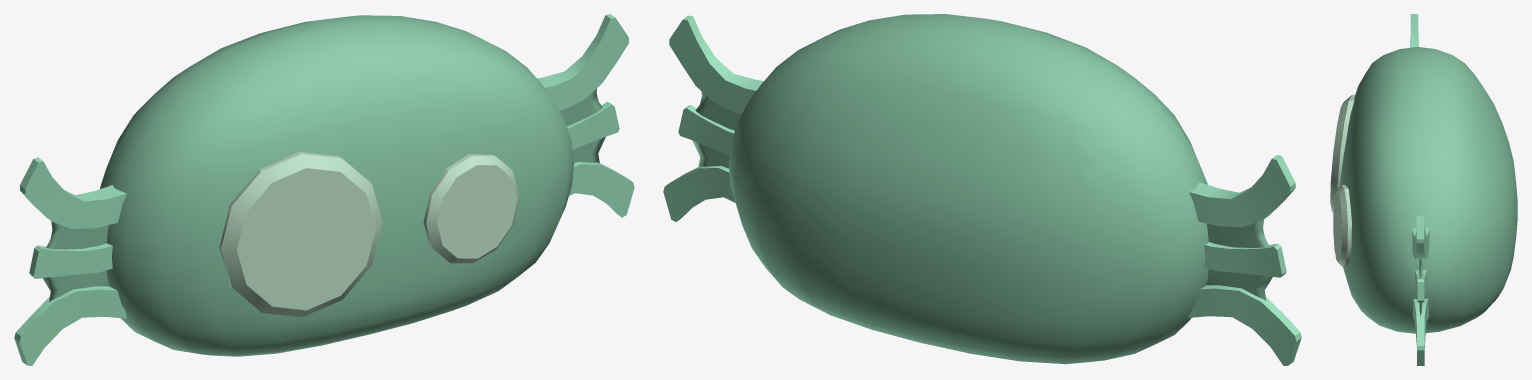
Rendered from Espirito_Boto.fbx.
3 renders of one model, left to right at view 1: azimuth 30°, elevation 25°; view 2: azimuth 150°, elevation 25°; view 3: azimuth 270°, elevation 25°, orthographic. The views are drawn at different scales.
Parts seen in each view (by area): view 1: pCube29; view 2: pCube29; view 3: pCube29.
Boxes of the visible parts, <box> form: pCube29: <box>14,14,634,365</box>; pCube29: <box>663,14,1301,365</box>; pCube29: <box>1330,14,1517,365</box>.
Size of the model in its own units: 2.91 by 1.31 by 1.06.
